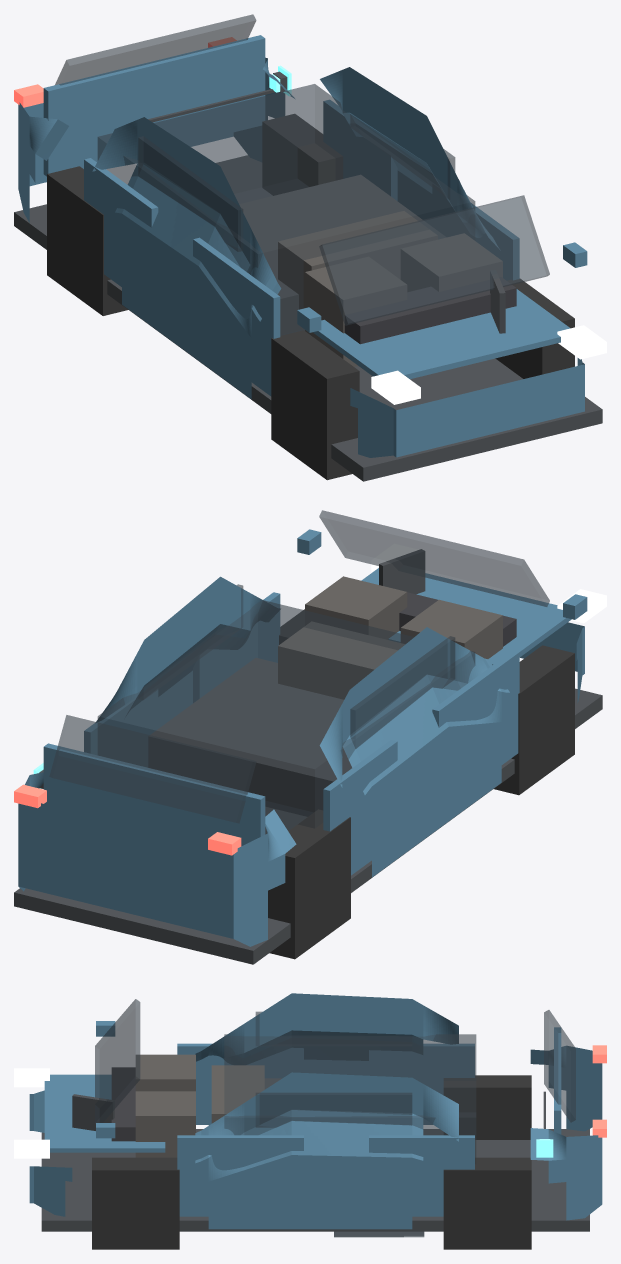
File: fallback.eb2ea1b58c.glb
3 views of the same model, one above another, from view 1: azimuth 30°, elevation 25°; view 2: azimuth 150°, elevation 25°; view 3: azimuth 270°, elevation 25° (orthographic). The views are drawn at different scales.
Visible parts, largest first — view 1: body_mesh, cab_mesh, windshield, liftgate_mesh, trim_mesh, tire_fr, frunk_mesh, wheel_well_mesh, tire_rr, seat_rear, dash, seat_r (+13 smaller); view 2: body_mesh, cab_mesh, wheel_well_mesh, liftgate_mesh, rear_glass, windshield, tire_rr, trim_mesh, tire_fr, seat_rear, frunk_mesh, window_fixed_r (+12 smaller); view 3: body_mesh, cab_mesh, trim_mesh, tire_fl, tire_rl, window_fixed_l, tire_rr, door_fl_mesh, frunk_mesh, door_rl_mesh, windshield, door_rr_mesh (+12 smaller).
Part boxes in pixels (<box>): body_mesh: <box>18,57,584,457</box>; cab_mesh: <box>97,84,475,335</box>; windshield: <box>319,195,549,325</box>; liftgate_mesh: <box>43,35,265,176</box>; trim_mesh: <box>14,155,602,481</box>; tire_fr: <box>271,330,359,480</box>; frunk_mesh: <box>313,289,570,379</box>; wheel_well_mesh: <box>239,174,445,335</box>; tire_rr: <box>47,166,128,315</box>; seat_rear: <box>278,211,437,309</box>; dash: <box>344,277,516,344</box>; seat_r: <box>305,257,406,366</box>; body_mesh: <box>18,576,584,946</box>; cab_mesh: <box>97,600,475,834</box>; wheel_well_mesh: <box>148,658,351,816</box>; liftgate_mesh: <box>43,743,265,846</box>; rear_glass: <box>49,715,256,823</box>; windshield: <box>319,510,549,606</box>; tire_rr: <box>268,809,350,959</box>; trim_mesh: <box>14,688,602,964</box>; tire_fr: <box>494,645,574,795</box>; seat_rear: <box>278,621,404,699</box>; frunk_mesh: <box>361,568,571,664</box>; window_fixed_r: <box>350,636,455,748</box>; body_mesh: <box>29,993,602,1229</box>; cab_mesh: <box>224,1034,476,1163</box>; trim_mesh: <box>41,1129,589,1231</box>; tire_fl: <box>92,1157,179,1249</box>; tire_rl: <box>443,1157,531,1249</box>; window_fixed_l: <box>255,1092,412,1127</box>; tire_rr: <box>443,1075,531,1139</box>; door_fl_mesh: <box>177,1135,303,1216</box>; frunk_mesh: <box>44,1074,165,1152</box>; door_rl_mesh: <box>369,1135,474,1216</box>; windshield: <box>95,999,140,1123</box>; door_rr_mesh: <box>369,1044,474,1124</box>.
Size of the model in its own units: 2.09 by 1.86 by 4.92.
